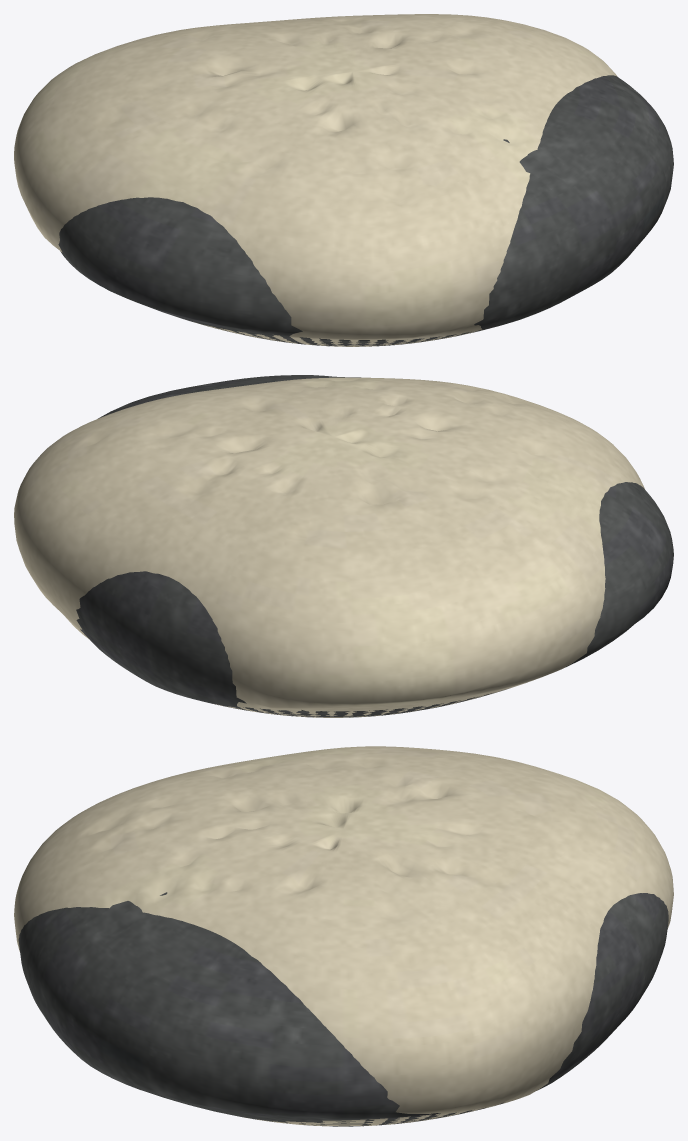
File: shore.glb
3 renders of one model, top to bottom at view 1: azimuth 30°, elevation 25°; view 2: azimuth 150°, elevation 25°; view 3: azimuth 270°, elevation 25°, orthographic. The views are drawn at different scales.
Parts seen in each view (by area): view 1: Shore light waterworn surface, Shore dark waterworn surface; view 2: Shore light waterworn surface, Shore dark waterworn surface; view 3: Shore light waterworn surface, Shore dark waterworn surface.
Boxes of the visible parts, x1,y1,x2,y2 form: Shore light waterworn surface: [14, 14, 617, 346]; Shore dark waterworn surface: [58, 75, 673, 346]; Shore light waterworn surface: [14, 377, 644, 717]; Shore dark waterworn surface: [76, 375, 673, 717]; Shore light waterworn surface: [14, 746, 673, 1126]; Shore dark waterworn surface: [18, 892, 668, 1126].
Bounding box in the file's own units: 0.0374 × 0.0154 × 0.035.
2 materials, 2 textured.
